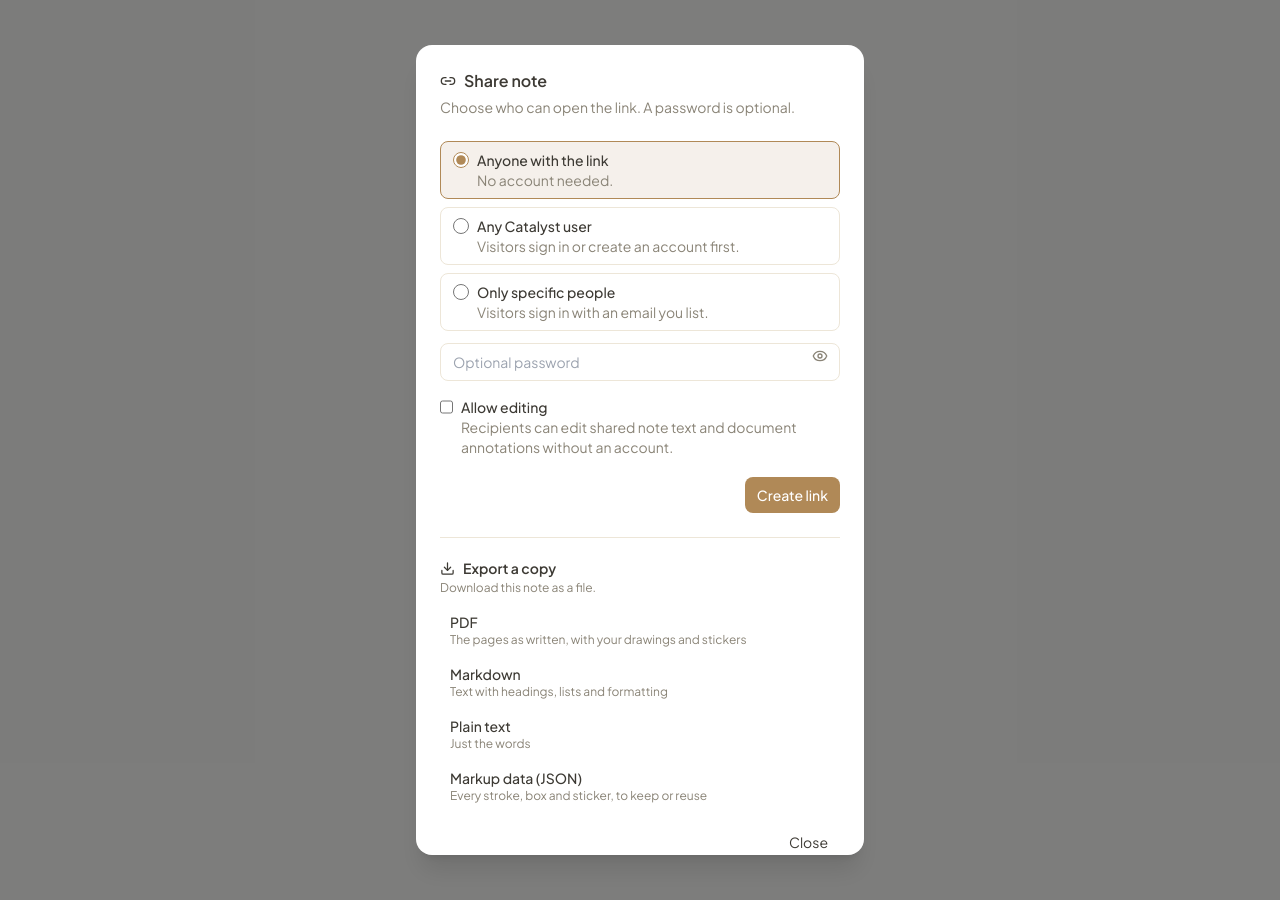
Test: Share dialog on the note page › says so when the editor isn't ready to export yet
What coordinates should you click on to do the following:
click the menu item "PDF The pages as written, with your drawings and stickers"
I would click on:
 (640, 630)
Its box is [440,604,840,656].
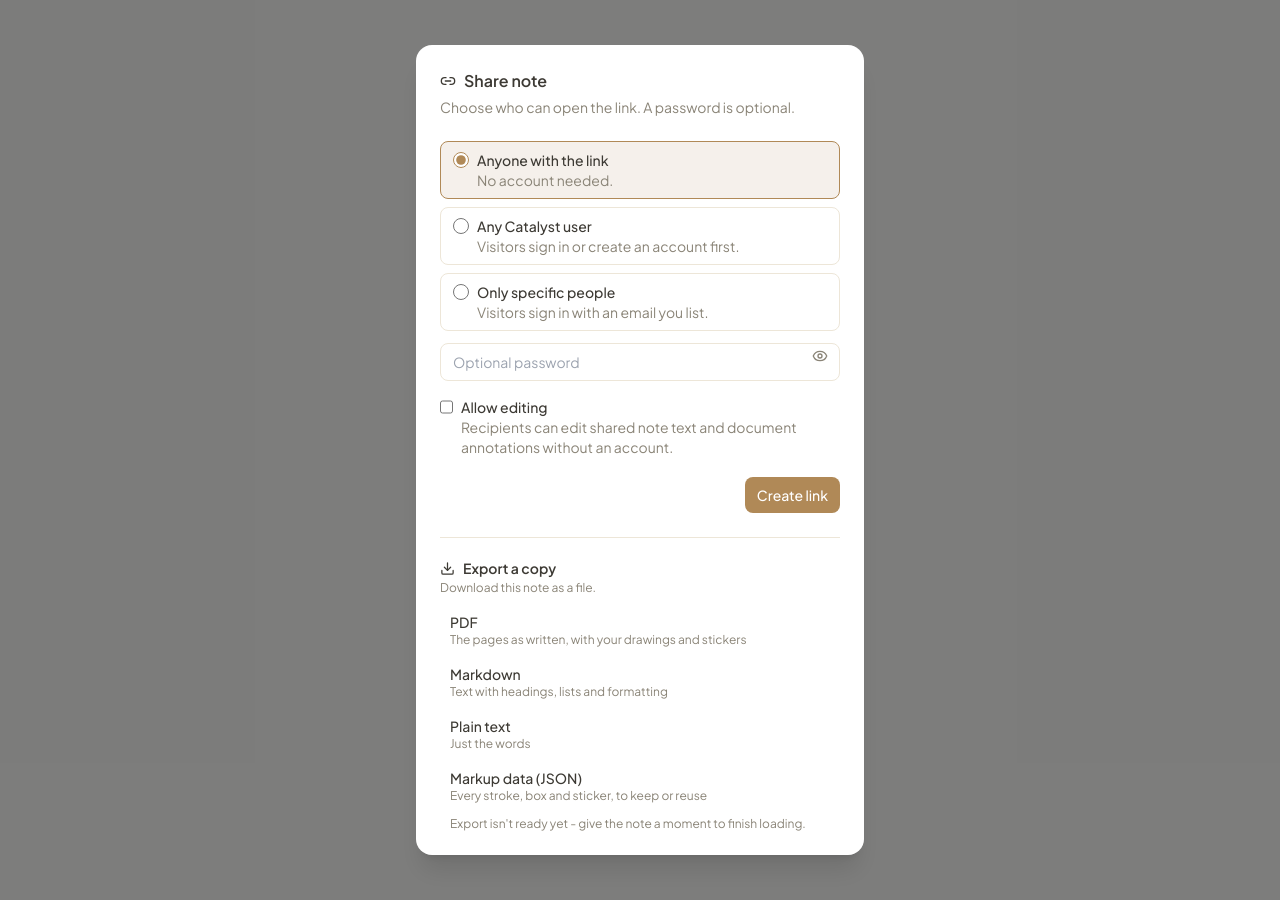
Check: the text "Export isn't ready yet - give the note a moment to finish loading." is shown, box [450,816,806,831]
